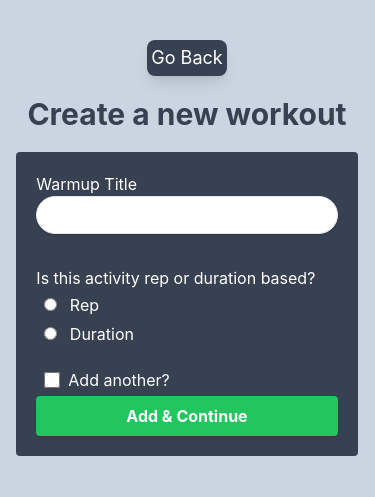
Test: Check the workout creation functionality › shows a validation error if you omit an activity title and rep/duration answer
Click the button with test id "SubmitButton" at (187, 416), box [36,396,337,436]
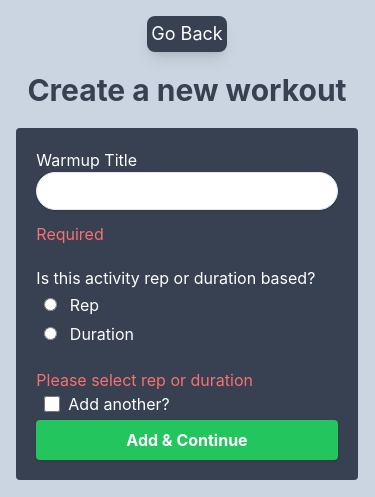
Now the text "Required" is shown, box [36,224,104,244]
Now the text "Please select rep or duration" is shown, box [36,370,253,390]
